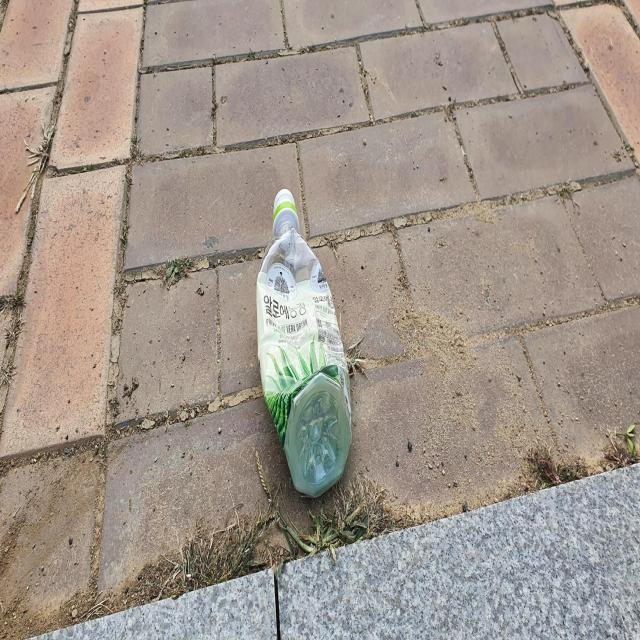plastic: (257, 187, 352, 497)
